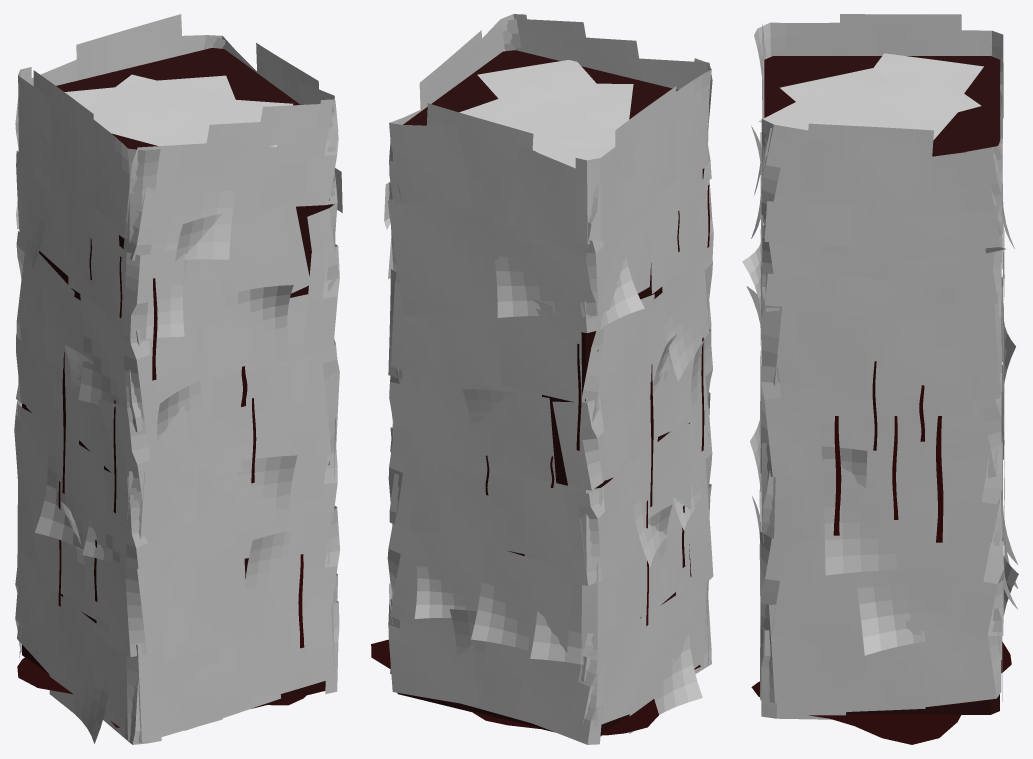
File: ps_block.glb
3 views of the same model, side by side, from view 1: azimuth 30°, elevation 25°; view 2: azimuth 150°, elevation 25°; view 3: azimuth 270°, elevation 25° (orthographic).
Parts seen in each view (by area): view 1: teil1, teil0, teil2, teil3; view 2: teil1, teil0, teil2; view 3: teil1, teil0, teil2, teil3.
Boxes of the visible parts, x1,y1,x2,y2 form: teil1: [14, 14, 342, 744]; teil0: [22, 48, 332, 708]; teil2: [17, 238, 306, 727]; teil3: [58, 256, 304, 648]; teil1: [384, 14, 713, 744]; teil0: [397, 50, 704, 735]; teil2: [371, 211, 704, 735]; teil1: [742, 14, 1018, 719]; teil0: [764, 56, 999, 714]; teil2: [751, 361, 1011, 744]; teil3: [833, 385, 943, 542].
Bounding box in the file's own units: 1.3 × 2.63 × 1.06.
